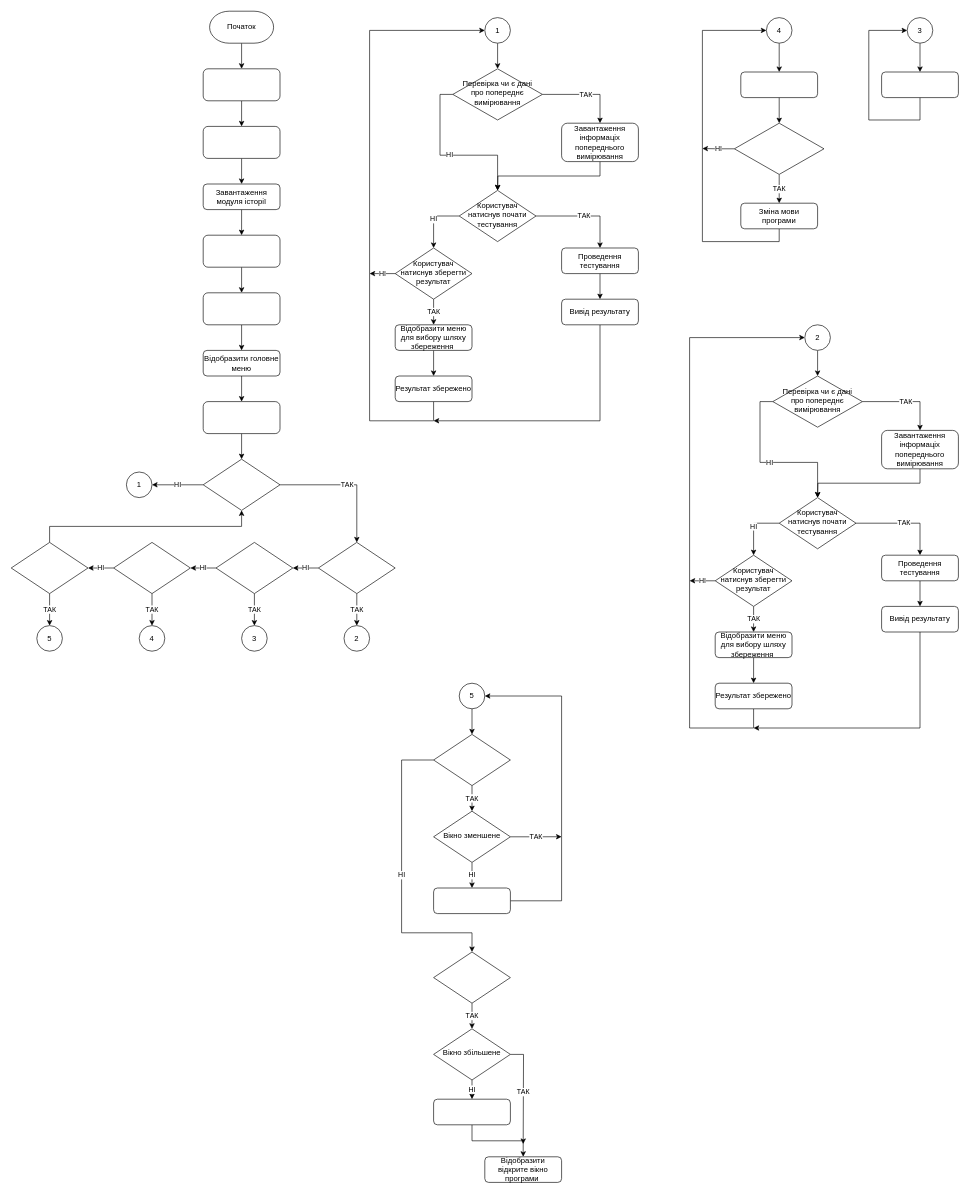
The diagram is 970 pixels wide and 1194 high, and some of its shapes have lost their labels. Here are the shapes that lost their labels. From the top down, the box of each, then its label:
(203, 68, 280, 101): Завантаження модуля перегляду даних про систему
(740, 71, 818, 98): Вивід інформації про програму
(881, 71, 958, 98): Вивід історії тестування
(203, 126, 280, 158): Завантаження модуля тестування пам'яті
(734, 123, 824, 174): Вибір іншої мови
(203, 235, 280, 267): Завантаження модуля налаштувань
(203, 292, 280, 325): Завантаждення модуля систумного трею
(203, 401, 280, 434): Відобразити модуль перегляду даних про систему
(203, 459, 280, 510): Користувач обрав інше вікно
(11, 542, 88, 594): Користувач обрав вікно трею
(113, 542, 190, 594): Користувач обрав вікно налаштування
(215, 542, 293, 594): Користувач обрав вікно історії
(318, 542, 395, 594): Користувач обрав вікно тестування
(433, 734, 510, 786): Користувач натистув зменшити вікно
(433, 887, 510, 914): Зменшити вікно
(433, 951, 510, 1003): Користувач натистув збільшити вікно
(433, 1099, 510, 1125): Збільшити вікно
